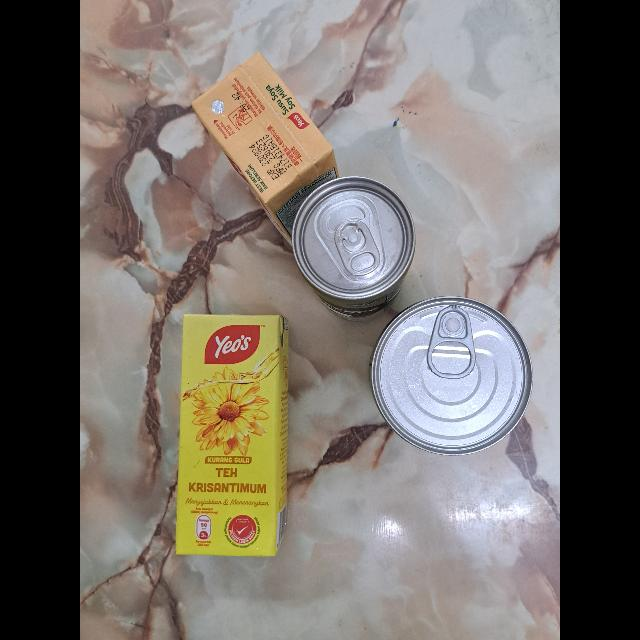aba de lata: (427, 301, 477, 379), (332, 216, 386, 278)
caixinha: (194, 51, 340, 246), (178, 310, 288, 556)
lata: (370, 294, 530, 458), (290, 174, 416, 318)
